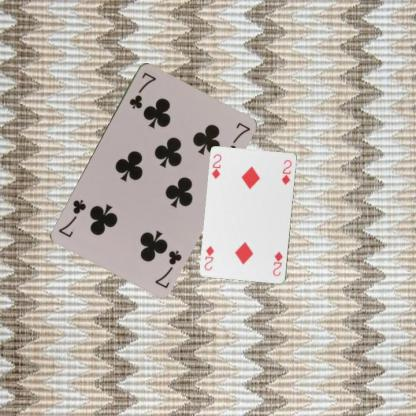2d: (270, 249, 284, 277), (209, 152, 223, 180)
7c: (152, 247, 183, 290), (127, 69, 158, 110)
